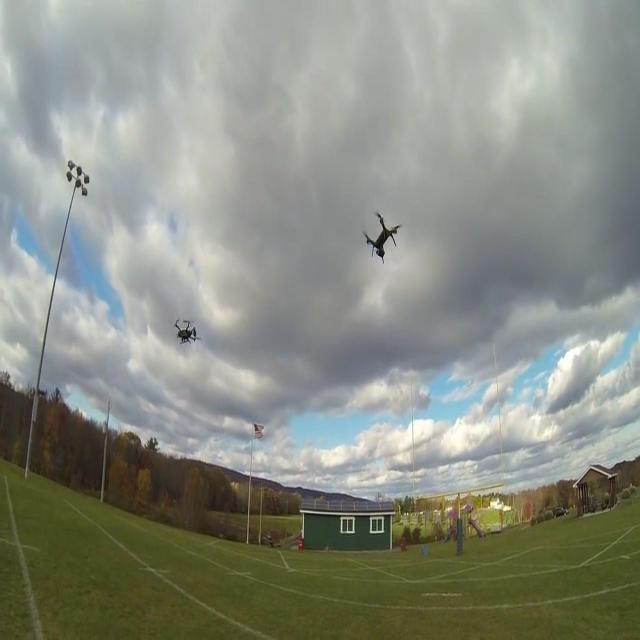drone: (363, 210, 403, 267), (173, 316, 202, 348)
